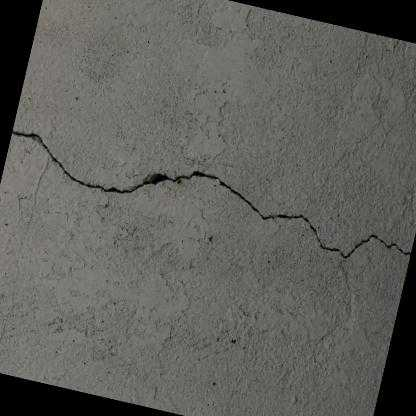crack: (12, 128, 412, 259)
